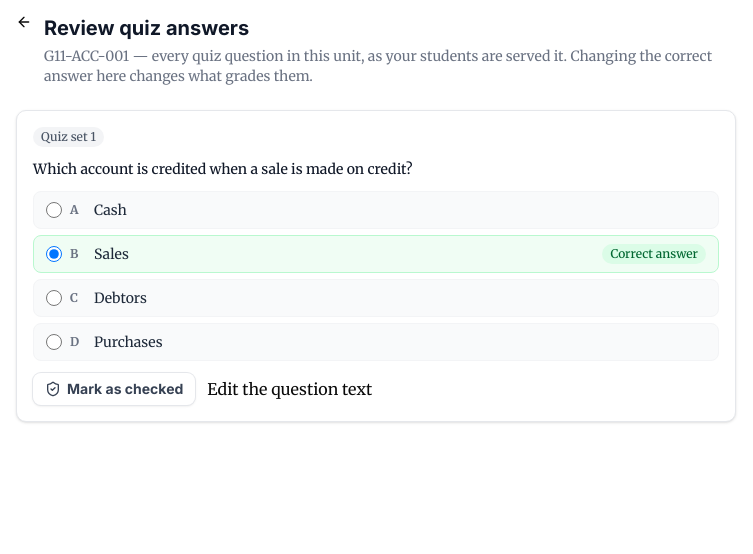
Test: choosing a different correct option › reports what the server says happened, rather than inferring it
What coordinates should you click on to do the following:
click the radio button named "Debtors"
I would click on:
 (54, 298)
Its box is [46, 290, 62, 306].
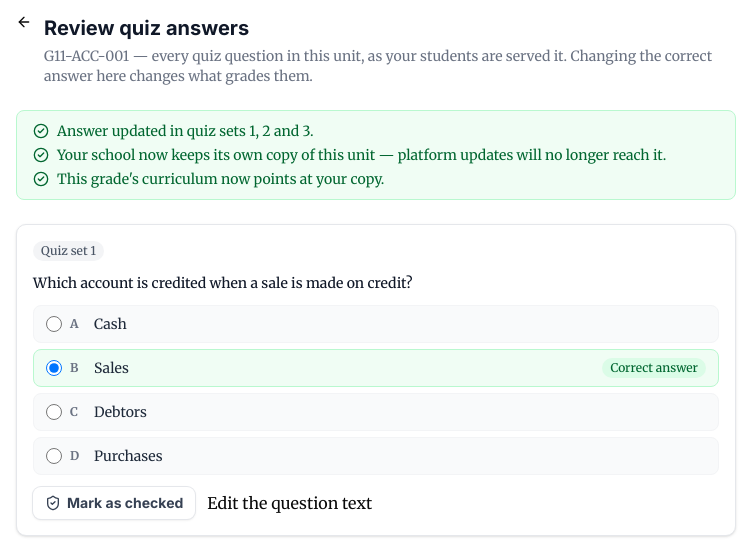
Check: the element with test id "correction-result" shows "own copy of this unit", box [57, 146, 666, 164]
Check: the element with test id "correction-result" shows "points at your copy", box [57, 170, 384, 188]
Check: the element with test id "correction-result" shows "quiz sets 1, 2 and 3", box [57, 122, 314, 140]
